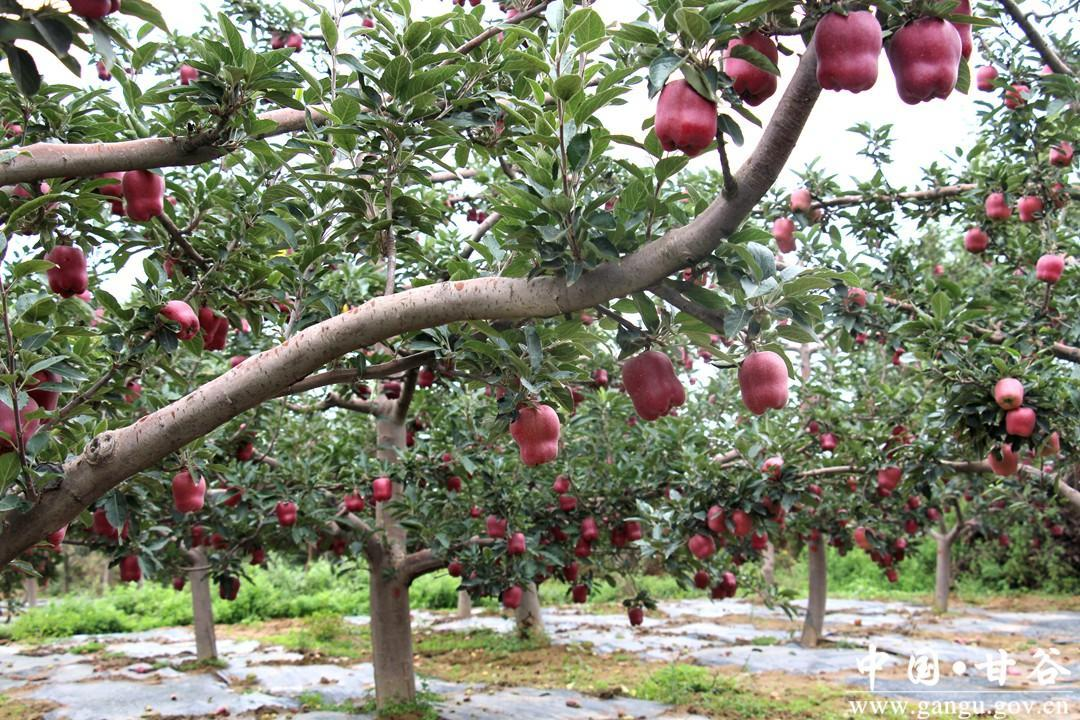apple: (884, 12, 965, 104), (812, 9, 883, 93), (651, 77, 718, 155), (85, 169, 165, 223), (623, 352, 682, 420), (508, 401, 561, 465), (737, 350, 790, 412), (723, 49, 778, 103), (120, 167, 169, 220), (42, 243, 88, 298), (727, 41, 778, 80), (170, 467, 206, 512), (195, 305, 229, 351), (157, 300, 198, 337), (985, 442, 1018, 476), (993, 376, 1023, 410), (1005, 406, 1035, 437), (770, 216, 795, 252), (789, 186, 816, 218), (1036, 253, 1063, 282), (1015, 195, 1043, 222), (686, 532, 714, 559), (983, 190, 1009, 219), (962, 227, 987, 252)
